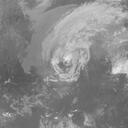cyclone: (41, 29, 91, 82)
